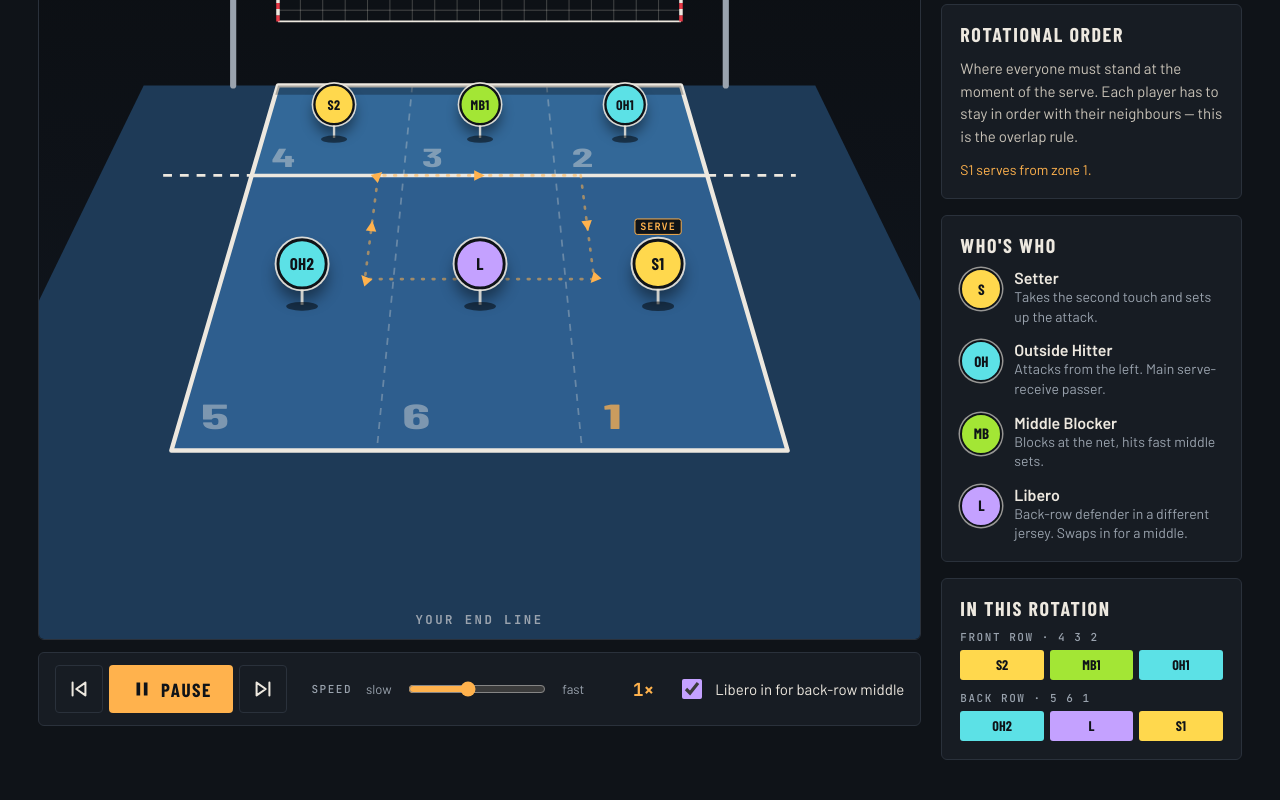
Test case: next button advances the rotation counter
(page scrolled)
Click the button named "Next rotation".
click(263, 689)  # box 239,665 -> 287,713
(page scrolled)
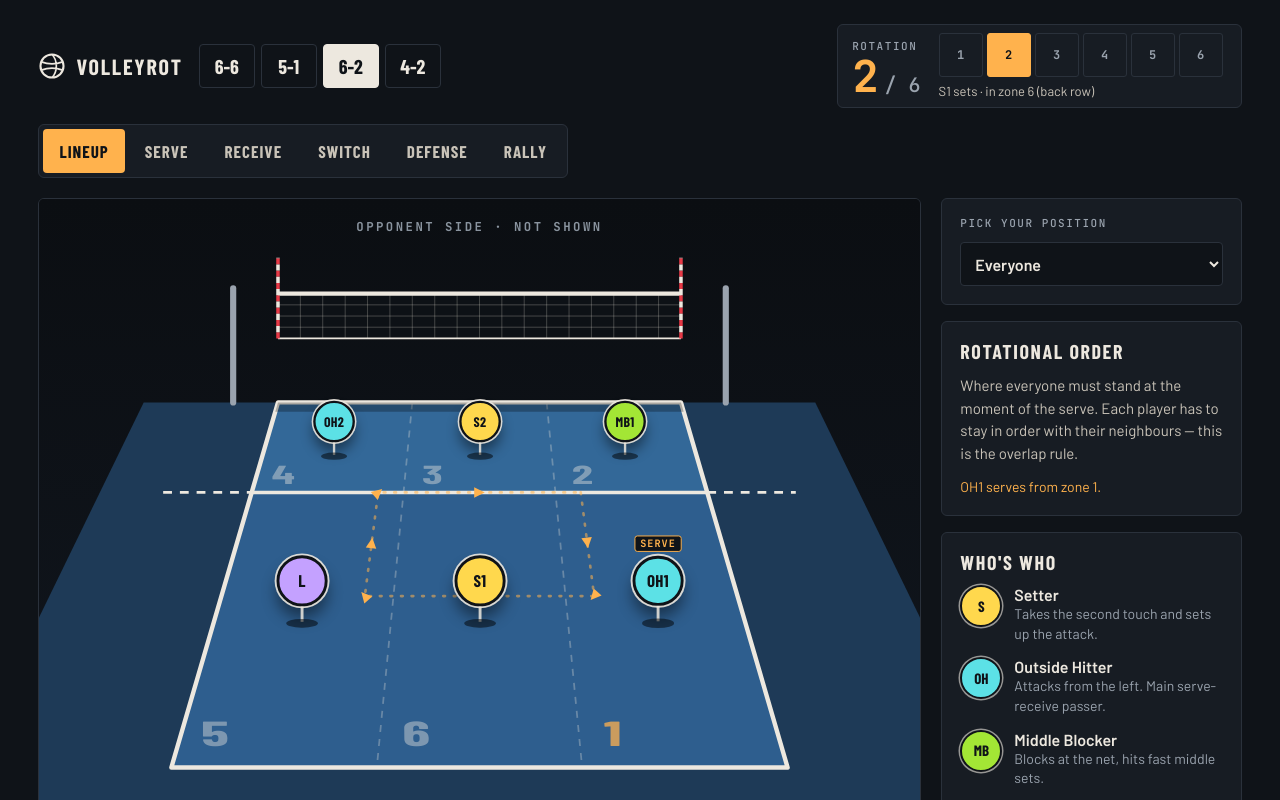
Expected: the text named "Current rotation" reads "2", 852,47 -> 879,105
